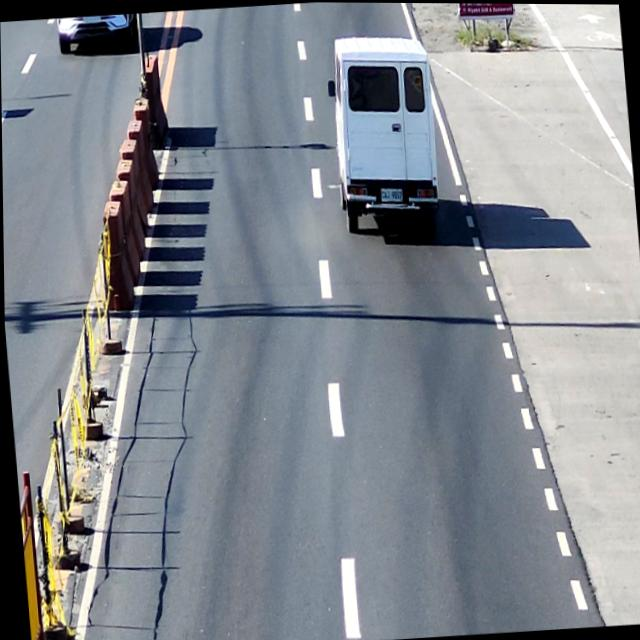Car: (327, 36, 440, 235), (55, 12, 145, 56)
License-Plate: (377, 182, 403, 202)
